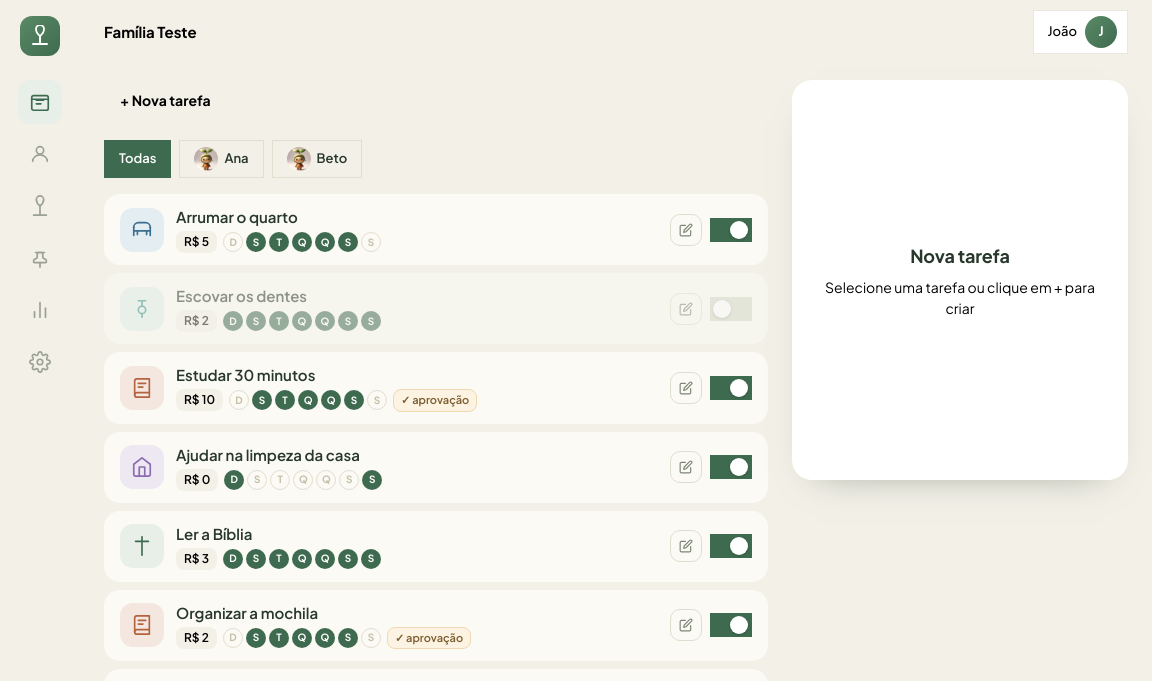
ParentPanelView — PTASK-01..10 › PTASK-07: stepper com reward=0 mostra "Mordomia"; clicar + incrementa para "R$ 1"
Click the button "+ Nova tarefa" at {"x": 165, "y": 100}, box [104, 80, 227, 120]
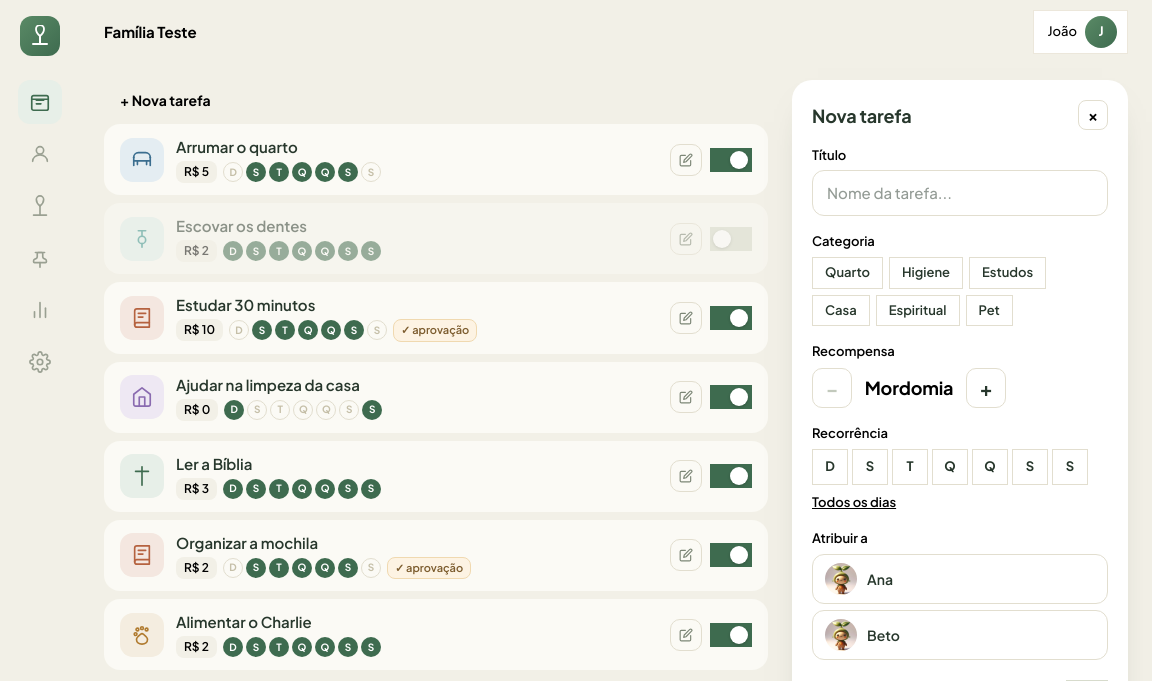
Expected: the text "Mordomia" is shown, [864, 374, 954, 401]
Clicar no botão + incrementa reward
Click the button "+" at {"x": 986, "y": 388}, box [966, 368, 1006, 408]
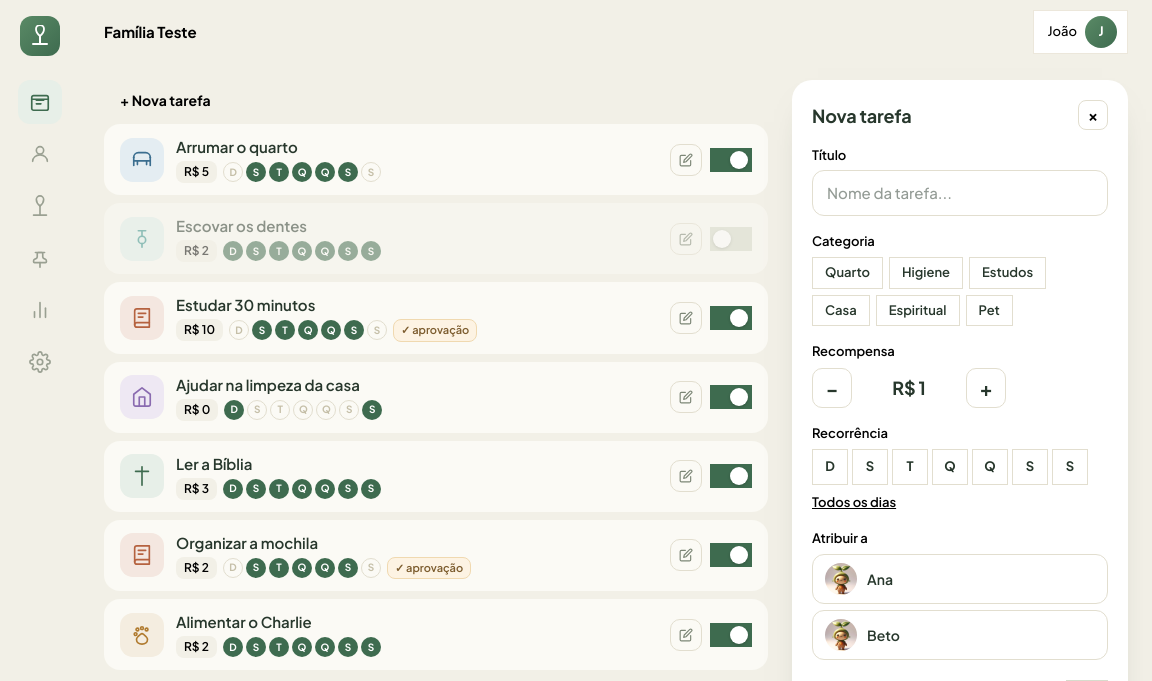
Expected: the text "R$ 1" is shown, [892, 376, 926, 399]
